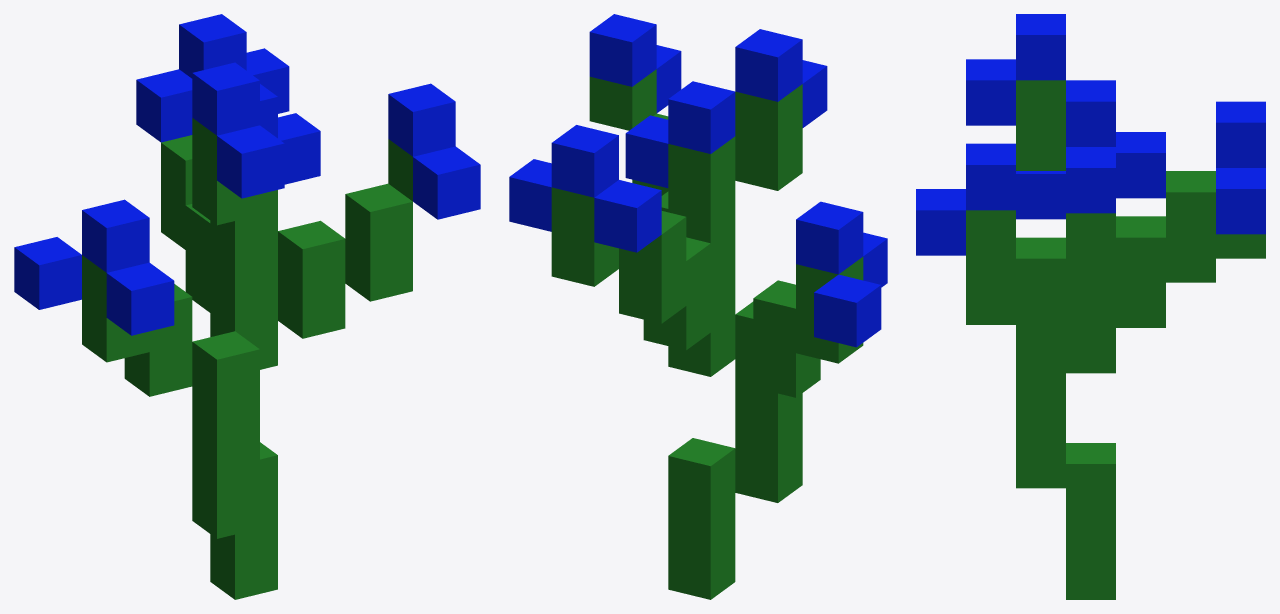
File: Flower02-0.obj
The picture shows the model from 3 angles, left to right: view 1: azimuth 30°, elevation 25°; view 2: azimuth 150°, elevation 25°; view 3: azimuth 270°, elevation 25°; orthographic projection.
Size of the model in its own units: 0.8 by 1.2 by 0.7.
1 material, 1 textured.
